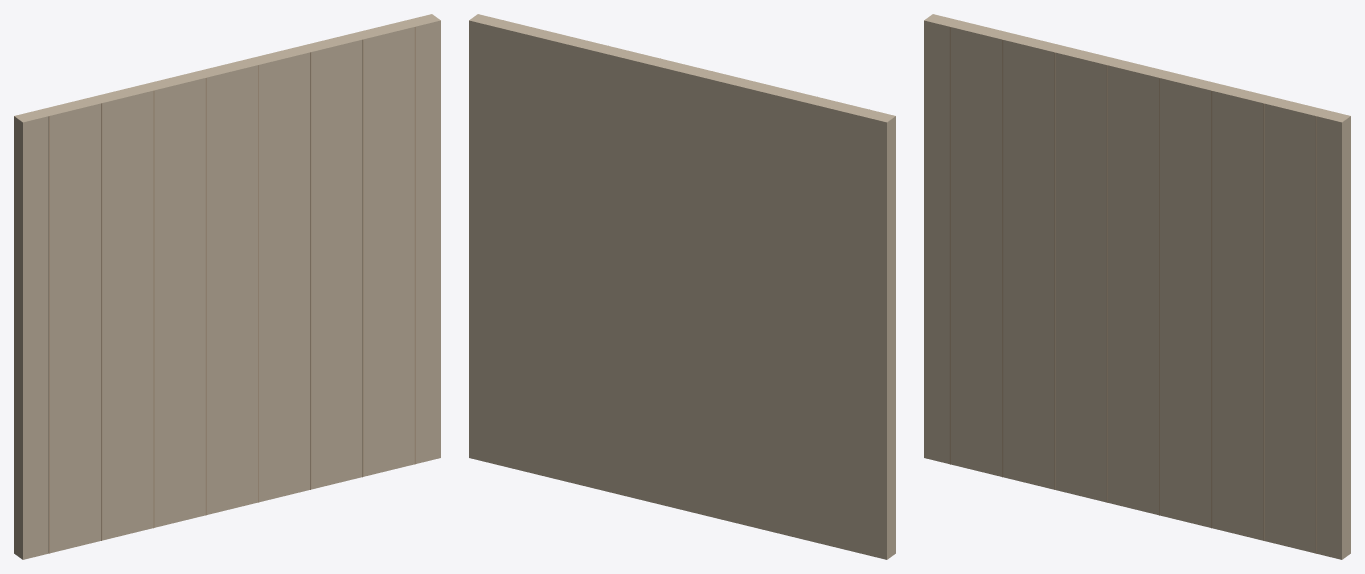
Rendered from floor_wood_3m.glb.
3 views of the same model, side by side, from view 1: azimuth 30°, elevation 25°; view 2: azimuth 150°, elevation 25°; view 3: azimuth 330°, elevation 25° (orthographic).
Parts seen in each view (by area): view 1: floor_base, plank_seam_2, plank_seam_3, plank_seam_6, plank_seam_7, plank_seam_0, plank_seam_1, plank_seam_5; view 2: floor_base; view 3: floor_base, plank_seam_1, plank_seam_2, plank_seam_3, plank_seam_5, plank_seam_6, plank_seam_7, plank_seam_0.
Part boxes in pixels (<box>): floor_base: <box>14,14,440,559</box>; plank_seam_2: <box>153,90,154,528</box>; plank_seam_3: <box>205,77,206,515</box>; plank_seam_6: <box>362,39,363,477</box>; plank_seam_7: <box>414,26,415,464</box>; plank_seam_0: <box>48,116,49,553</box>; plank_seam_1: <box>101,103,102,540</box>; plank_seam_5: <box>310,52,311,489</box>; floor_base: <box>469,14,895,559</box>; floor_base: <box>924,14,1350,559</box>; plank_seam_1: <box>1002,39,1003,477</box>; plank_seam_2: <box>1054,52,1055,489</box>; plank_seam_3: <box>1106,65,1107,502</box>; plank_seam_5: <box>1211,90,1212,528</box>; plank_seam_6: <box>1263,103,1264,540</box>; plank_seam_7: <box>1315,116,1316,553</box>; plank_seam_0: <box>949,27,950,464</box>.
Size of the model in its own units: 3 by 3 by 0.112.
